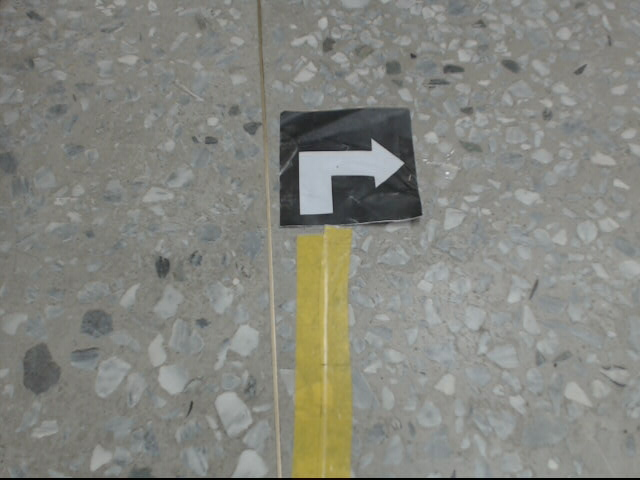right: (277, 105, 428, 228)
